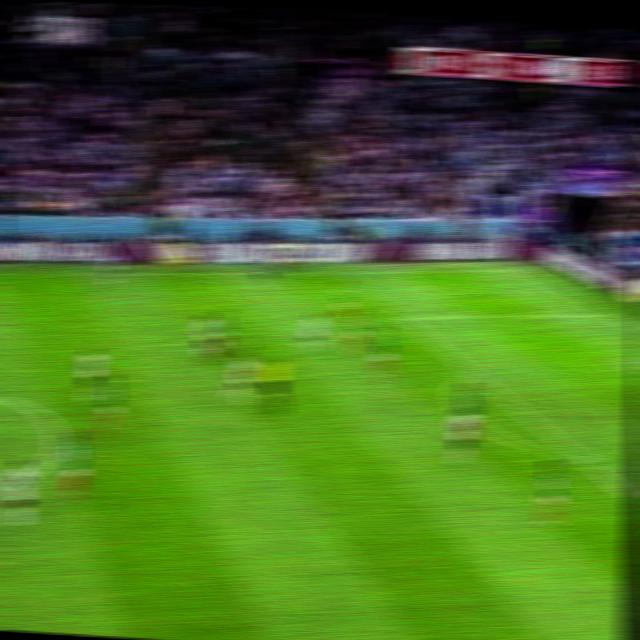bigarea_top_inner: (393, 308, 417, 326)
bigarea_top_outter: (595, 306, 618, 320)
bottom_arc_area_intersection: (570, 448, 596, 468)
corner: (515, 261, 538, 274)
smallarea_top_inner: (608, 352, 633, 369)
top_arc_area_intersection: (461, 361, 486, 380)
